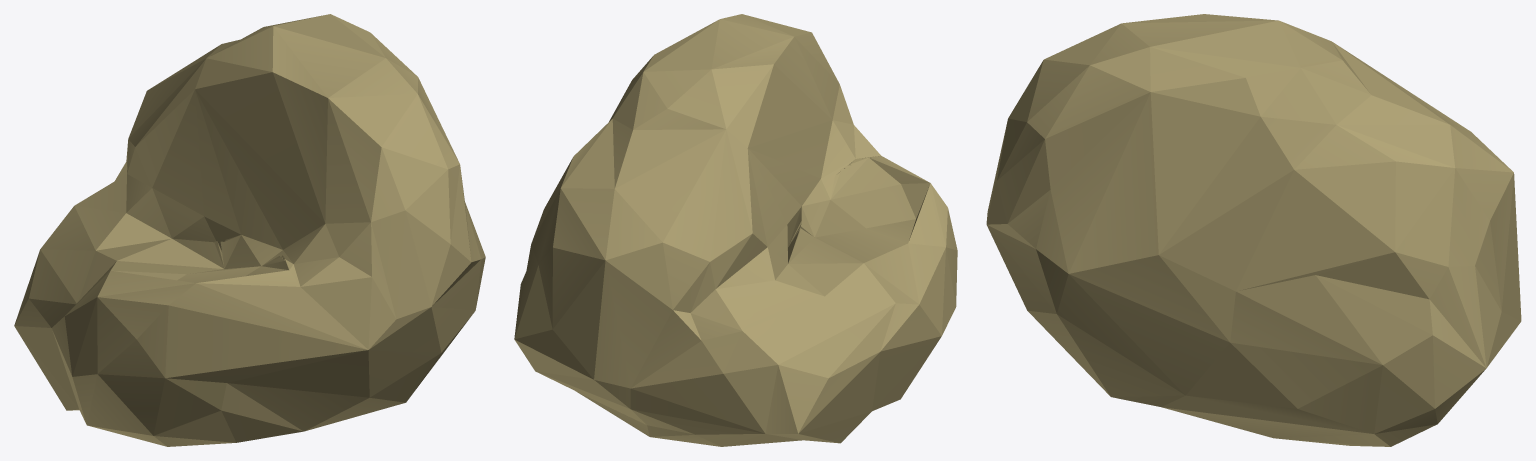
The model's file is SM_rock_44.fbx.
3 views of the same model, side by side, from view 1: azimuth 30°, elevation 25°; view 2: azimuth 150°, elevation 25°; view 3: azimuth 270°, elevation 25° (orthographic). The views are drawn at different scales.
Visible parts, largest first — view 1: rock_44; view 2: rock_44; view 3: rock_44.
Part boxes in pixels (x1,y1,x2,y2): rock_44: [14, 14, 485, 446]; rock_44: [514, 14, 957, 446]; rock_44: [986, 14, 1521, 446].
Size of the model in its own units: 134 by 128 by 153.
